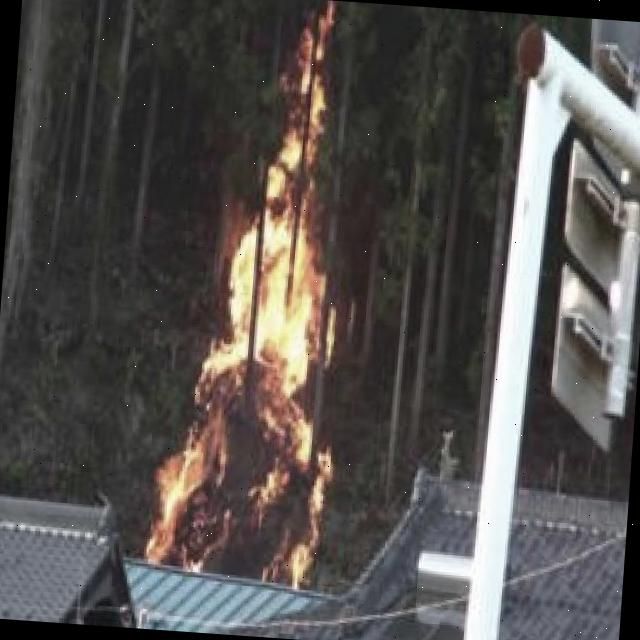fire: (151, 0, 363, 587)
